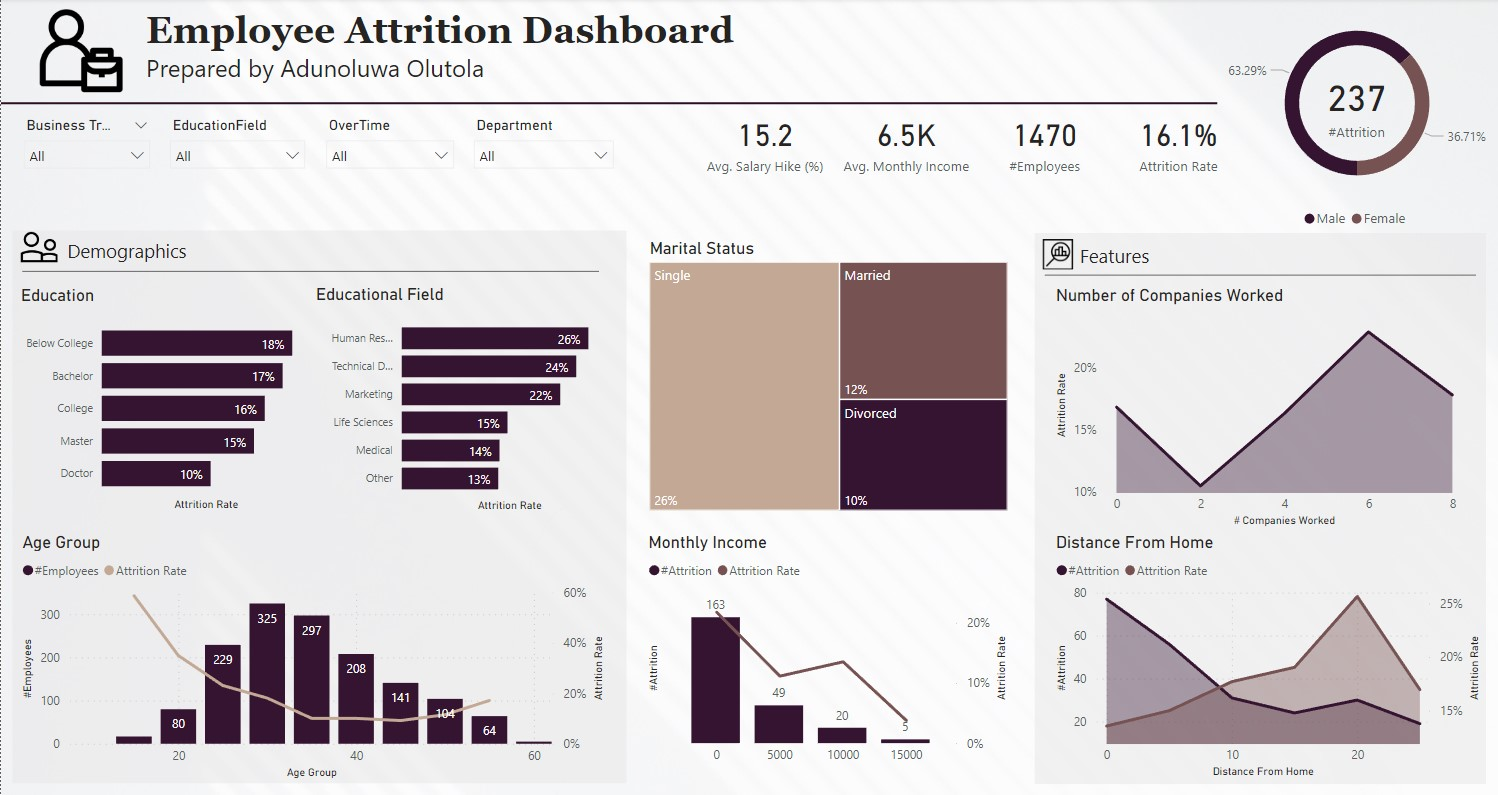

What the dashboard file says about the page in this screenshot:
{"tool":"powerbi","page":{"name":"Page 1","canvas":[1500,800],"ordinal":0},"visuals":[{"type":"donutChart","title":"Gender","fields":{"Category":["HR Employee Attrition.Gender"],"Y":["Calculations.#Attrition"]},"box":[1218.7,0,280,240],"z":0,"group":"g1"},{"type":"card","fields":{"Values":["Calculations.#Employees"]},"box":[976.7,106.7,138,75],"z":0,"group":"g4"},{"type":"slicer","fields":{"Values":["HR Employee Attrition.BusinessTravel"]},"box":[13,114.3,146.7,63.5],"z":0,"group":"g3"},{"type":"textbox","box":[61.2,234.9,232.5,37.1],"z":0,"group":"g2"},{"type":"shape","box":[1035,235,451.7,551.7],"z":0},{"type":"textbox","box":[1075,239.7,255,35.8],"z":0,"group":"g5"},{"type":"card","fields":{"Values":["Calculations.#Attrition"]},"box":[1277.5,63.3,161.7,85],"z":1000,"group":"g1"},{"type":"card","fields":{"Values":["Avg(HR Employee Attrition.MonthlyIncome)"]},"box":[838.4,106.7,138.3,75],"z":1000,"group":"g4"},{"type":"slicer","fields":{"Values":["HR Employee Attrition.Department"]},"box":[463.5,114.3,160.3,63.5],"z":1000,"group":"g3"},{"type":"shape","box":[11.7,233.3,615,553.3],"z":1000},{"type":"group","id":"g1","title":"Group 1","box":[1218.7,0,280,240],"z":2000},{"type":"card","fields":{"Values":["Avg(HR Employee Attrition.PercentSalaryHike)"]},"box":[696.7,106.7,138.3,75],"z":2000,"group":"g4"},{"type":"slicer","fields":{"Values":["HR Employee Attrition.OverTime"]},"box":[315.4,114.3,148.2,63.5],"z":2000,"group":"g3"},{"type":"basicShape","box":[11.7,263.4,597.4,19.2],"z":2000,"group":"g2"},{"type":"basicShape","box":[1035,267.1,451.7,19.2],"z":2000,"group":"g5"},{"type":"slicer","fields":{"Values":["HR Employee Attrition.EducationField"]},"box":[159.7,114.3,155.7,63.5],"z":3000,"group":"g3"},{"type":"clusteredColumnChart","title":"Job Satisfaction","fields":{"Category":["HR Employee Attrition.Job Satisfaction"],"Y":["Calculations.Attrition Rate"]},"box":[15,534.8,300,230],"z":3000},{"type":"card","fields":{"Values":["Calculations.Attrition Rate"]},"box":[1111.7,106.7,138,75],"z":4000,"group":"g4"},{"type":"group","id":"g2","title":"Group 2","box":[11.7,234.9,597.4,47.8],"z":4000,"group":"g6"},{"type":"clusteredColumnChart","title":"Environment Satisfaction","fields":{"Category":["HR Employee Attrition.Environment Satisfaction"],"Y":["Calculations.Attrition Rate"]},"box":[15,288.1,300,230],"z":4000},{"type":"columnChart","title":"Work Life Balance","fields":{"Category":["HR Employee Attrition.Work Life Balance"],"Y":["Calculations.Attrition Rate"]},"box":[313.3,534.8,306.7,230],"z":5000},{"type":"columnChart","title":"Relationship Satisfaction","fields":{"Category":["HR Employee Attrition.Relationship Satisfaction"],"Y":["Calculations.Attrition Rate"]},"box":[318.3,289.8,300,228.3],"z":6000},{"type":"areaChart","title":"Years Worked at Company","fields":{"Category":["HR Employee Attrition.YearsAtCompany (bins)","HR Employee Attrition.YearsInCurrentRole (bins)","HR Employee Attrition.YearsWithCurrManager (bins)"],"Y":["Calculations.#Attrition"],"Y2":["Calculations.Attrition Rate"]},"box":[1051.7,535,435,251.7],"z":7000},{"type":"group","id":"g3","title":"Group 3","box":[13,114.3,610,63.3],"z":8000},{"type":"lineClusteredColumnComboChart","title":"Monthly Income","fields":{"Category":["HR Employee Attrition.MonthlyIncome (bins)"],"Y2":["Calculations.Attrition Rate"],"Y":["Calculations.#Attrition"]},"box":[643.3,535,370,241.7],"z":9000},{"type":"areaChart","title":"Years In Current Role","fields":{"Category":["HR Employee Attrition.YearsInCurrentRole (bins)","HR Employee Attrition.YearsWithCurrManager (bins)"],"Y2":["Calculations.Attrition Rate"],"Y":["Calculations.#Employees"]},"box":[1051.7,288.3,435,230],"z":10000},{"type":"treemap","title":"Department","fields":{"Group":["HR Employee Attrition.Department"],"Values":["Calculations.Attrition Rate"]},"box":[644.8,400.6,368.1,88.9],"z":11000},{"type":"tableEx","fields":{"Values":["HR Employee Attrition.JobRole","Calculations.Attrition Rate","Calculations.#Attrition"]},"box":[643.3,240,368.3,148.3],"z":12000},{"type":"textbox","box":[140,6.7,613.3,91.7],"z":13000},{"type":"group","id":"g4","title":"Group 4","box":[696.7,106.7,553.3,75],"z":14000},{"type":"shape","box":[0,91.7,1218.3,28.3],"z":15000},{"type":"image","box":[15.7,0,128.6,107.1],"z":16000},{"type":"group","id":"g5","title":"Group 5","box":[1035,236.1,451.7,50.3],"z":17000},{"type":"group","id":"g6","title":"Group 6","box":[11.7,232,597.4,50.7],"z":18000},{"type":"image","box":[1035,236.1,46.9,40],"z":19000,"group":"g5"},{"type":"image","box":[15,232,48,40],"z":19002,"group":"g6"}]}

Visuals, with their boxes in screenshot pixels (x1, y1, x2, y2), scaled from the page's 1500x800 canvas onto the 1498x795 screenshot:
"Gender" donutChart: 1217 0 1497 238
card - Calculations.#Employees: 975 106 1113 181
slicer - HR Employee Attrition.BusinessTravel: 13 114 159 177
textbox: 61 233 293 270
shape: 1034 234 1485 782
textbox: 1074 238 1328 274
card - Calculations.#Attrition: 1276 63 1437 147
card - Avg(HR Employee Attrition.MonthlyIncome): 837 106 975 181
slicer - HR Employee Attrition.Department: 463 114 623 177
shape: 12 232 626 782
"Group 1" group: 1217 0 1497 238
card - Avg(HR Employee Attrition.PercentSalaryHike): 696 106 834 181
slicer - HR Employee Attrition.OverTime: 315 114 463 177
basicShape: 12 262 608 281
basicShape: 1034 265 1485 285
slicer - HR Employee Attrition.EducationField: 159 114 315 177
"Job Satisfaction" clusteredColumnChart: 15 531 315 760
card - Calculations.Attrition Rate: 1110 106 1248 181
"Group 2" group: 12 233 608 281
"Environment Satisfaction" clusteredColumnChart: 15 286 315 515
"Work Life Balance" columnChart: 313 531 619 760
"Relationship Satisfaction" columnChart: 318 288 617 515
"Years Worked at Company" areaChart: 1050 532 1485 782
"Group 3" group: 13 114 622 176
"Monthly Income" lineClusteredColumnComboChart: 642 532 1012 772
"Years In Current Role" areaChart: 1050 286 1485 515
"Department" treemap: 644 398 1012 486
tableEx - HR Employee Attrition.JobRole x Calculations.Attrition Rate: 642 238 1010 386
textbox: 140 7 752 98
"Group 4" group: 696 106 1248 181
shape: 0 91 1217 119
image: 16 0 144 106
"Group 5" group: 1034 235 1485 285
"Group 6" group: 12 231 608 281
image: 1034 235 1080 274
image: 15 231 63 270
